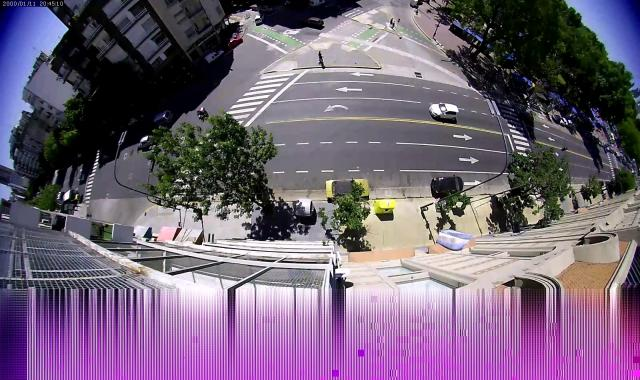bus: (63, 190, 74, 202), (56, 192, 64, 200)
car: (325, 180, 369, 198), (428, 103, 459, 121), (432, 177, 464, 194), (154, 110, 174, 126), (204, 50, 224, 64), (226, 37, 242, 50), (304, 17, 324, 27), (138, 136, 153, 148), (310, 0, 326, 7), (255, 14, 265, 24), (260, 6, 274, 12), (552, 115, 561, 122), (74, 194, 82, 201), (560, 118, 568, 125), (79, 175, 85, 181), (568, 120, 573, 126), (604, 148, 609, 152), (599, 142, 602, 146), (602, 143, 606, 146)
